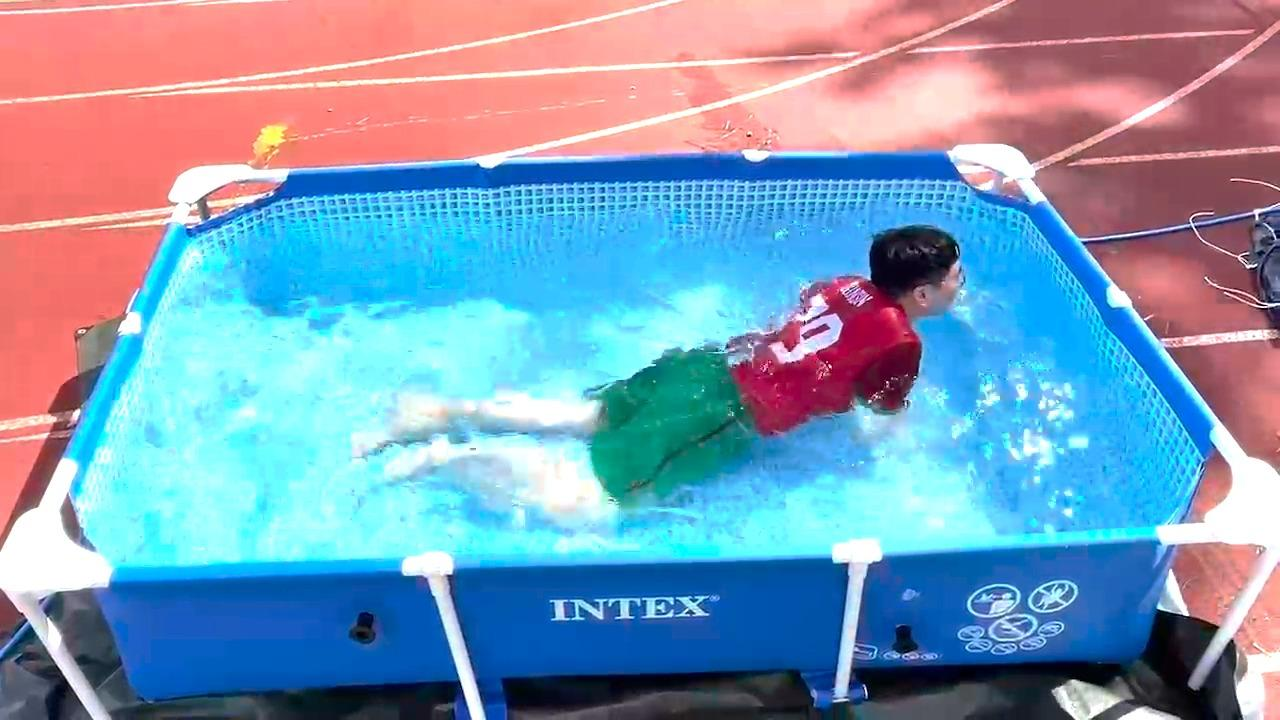Swimming: (316, 220, 1015, 525)
